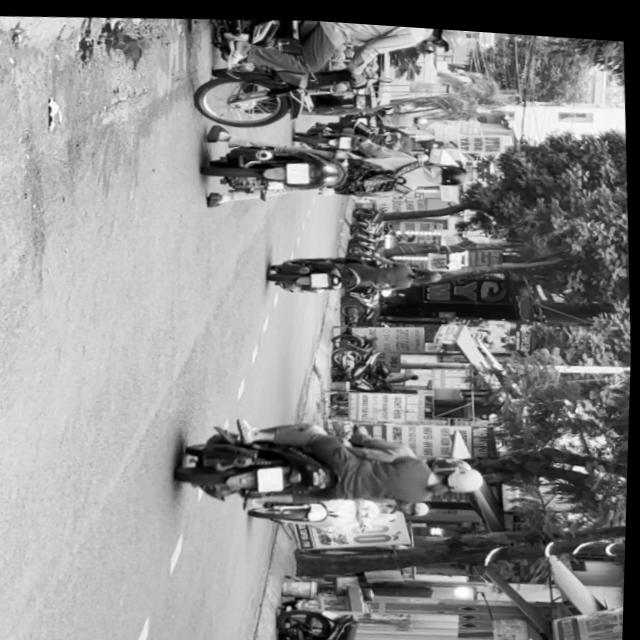helmet: (434, 457, 488, 491), (423, 156, 475, 186), (425, 22, 468, 46)
licenseplate: (179, 10, 481, 140), (176, 401, 494, 520), (201, 121, 475, 215)
nohelmet: (258, 464, 286, 491), (285, 159, 311, 181)
